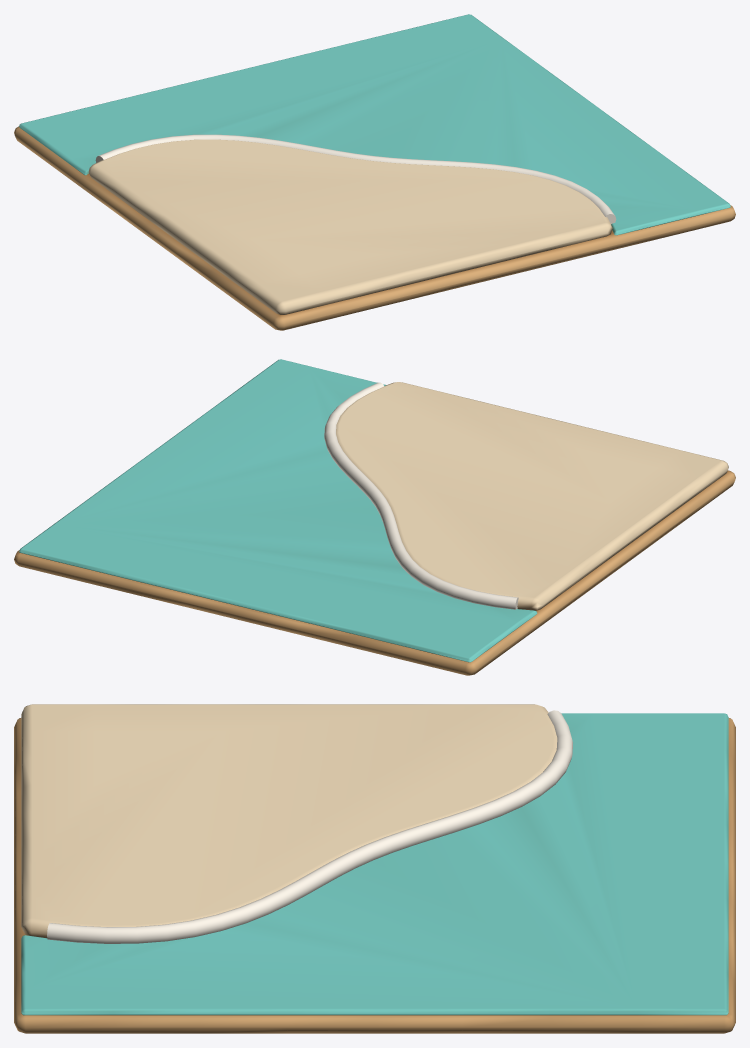
Rendered from tile_coast_curve_b.glb.
The picture shows the model from 3 angles, top to bottom: view 1: azimuth 30°, elevation 25°; view 2: azimuth 150°, elevation 25°; view 3: azimuth 270°, elevation 25°; orthographic projection. The views are drawn at different scales.
Parts seen in each view (by area): view 1: water, sand_top, base, foam; view 2: water, sand_top, base, foam; view 3: water, sand_top, base, foam.
Boxes of the visible parts, left/top/right/bottom form: water: left=19, top=14, right=730, bottom=235; sand_top: left=88, top=139, right=612, bottom=314; base: left=14, top=126, right=735, bottom=330; foam: left=95, top=134, right=616, bottom=223; water: left=19, top=359, right=537, bottom=662; sand_top: left=336, top=382, right=728, bottom=610; base: left=14, top=470, right=735, bottom=675; foam: left=324, top=382, right=518, bottom=609; water: left=21, top=713, right=728, bottom=1015; sand_top: left=21, top=704, right=557, bottom=937; base: left=14, top=718, right=735, bottom=1033; foam: left=47, top=710, right=572, bottom=943.
Bounding box in the file's own units: 4 × 0.23 × 4.
